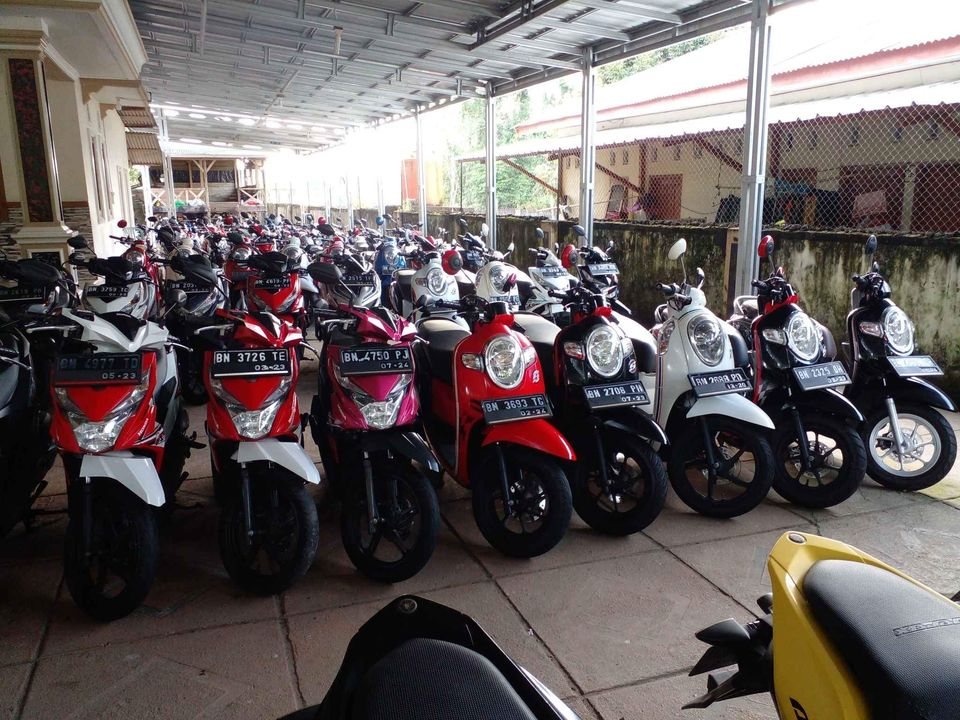plate: (789, 363, 857, 391), (207, 348, 293, 370), (341, 348, 415, 371), (477, 397, 553, 418), (581, 386, 651, 403)
